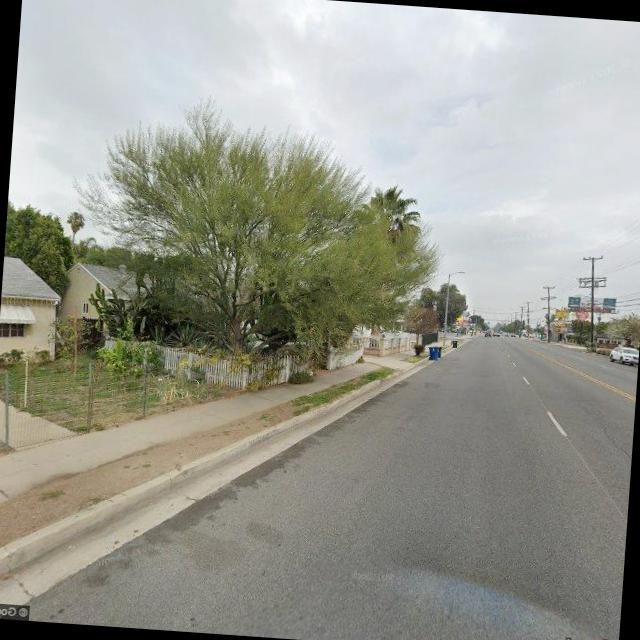pothole: (600, 423, 632, 459)
